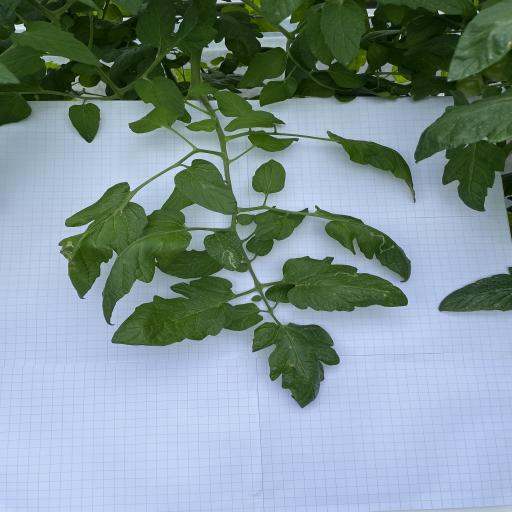Healthy: (101, 209, 193, 326), (112, 276, 236, 346), (414, 92, 512, 163), (326, 130, 416, 204), (442, 139, 506, 212), (10, 20, 103, 68), (160, 0, 218, 54), (320, 0, 366, 68), (214, 10, 264, 66), (236, 46, 287, 89), (156, 248, 223, 280), (134, 76, 185, 118), (135, 0, 176, 48), (128, 106, 182, 134), (68, 102, 101, 144), (222, 302, 264, 332), (252, 159, 287, 194), (224, 110, 276, 132), (213, 90, 255, 117), (259, 77, 298, 106), (248, 130, 299, 152), (327, 62, 368, 88), (256, 215, 295, 241), (188, 82, 219, 97), (184, 118, 217, 132)
Leaf_Miner: (58, 182, 148, 300), (314, 204, 412, 283), (282, 256, 408, 312), (203, 230, 242, 272)
